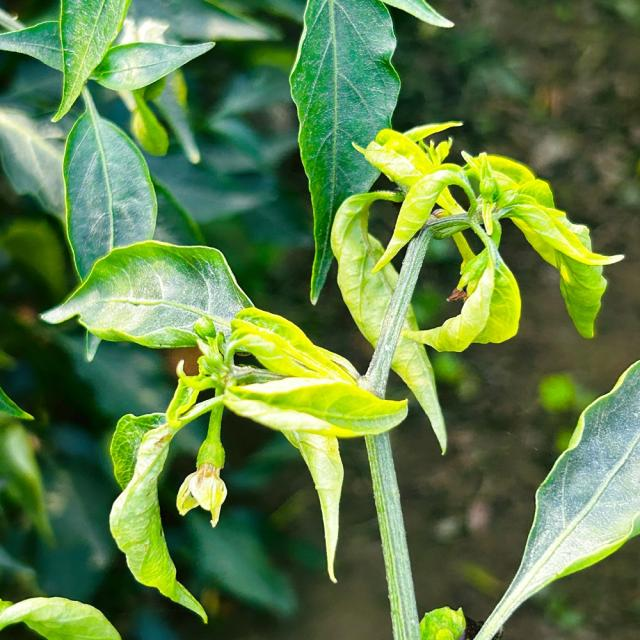Chilli_Leaf_Curl: (1, 1, 632, 636), (330, 119, 624, 454), (107, 306, 411, 624), (471, 358, 639, 639), (287, 0, 402, 306), (38, 238, 256, 362), (107, 411, 209, 624), (60, 92, 158, 282), (0, 0, 132, 122), (222, 374, 410, 438), (0, 594, 122, 638), (418, 605, 466, 639)
